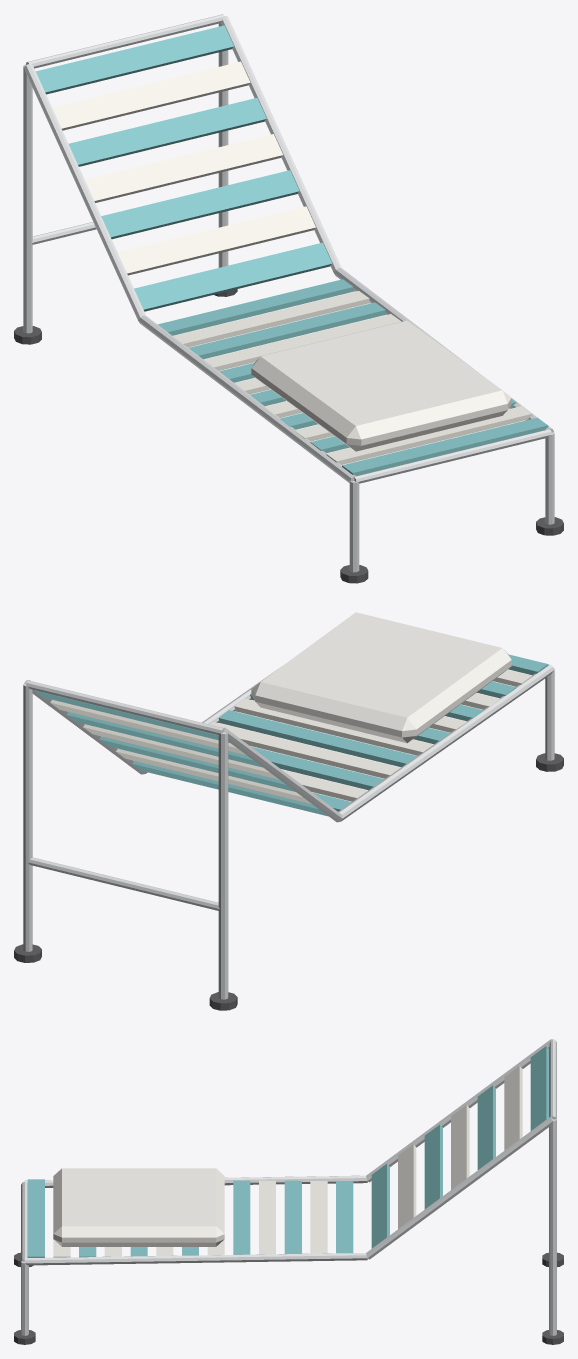
Rendered from lounger.glb.
The picture shows the model from 3 angles, top to bottom: view 1: azimuth 30°, elevation 25°; view 2: azimuth 150°, elevation 25°; view 3: azimuth 270°, elevation 25°; orthographic projection. The views are drawn at different scales.
Parts seen in each view (by area): view 1: lounger_accent2, lounger_vinyl_w, lounger_bed_w, lounger_alu, lounger_rubber; view 2: lounger_bed_w, lounger_alu, lounger_accent2, lounger_vinyl_w, lounger_rubber; view 3: lounger_bed_w, lounger_accent2, lounger_alu, lounger_vinyl_w, lounger_rubber.
Part boxes in pixels (x1,y1,x2,y2): lounger_accent2: (36, 25, 548, 475); lounger_vinyl_w: (52, 61, 532, 464); lounger_bed_w: (251, 320, 511, 451); lounger_alu: (23, 14, 554, 572); lounger_rubber: (14, 289, 563, 583); lounger_bed_w: (251, 612, 511, 743); lounger_alu: (23, 664, 554, 999); lounger_accent2: (34, 654, 548, 816); lounger_vinyl_w: (50, 669, 532, 803); lounger_rubber: (14, 753, 563, 1010); lounger_bed_w: (53, 1168, 224, 1246); lounger_accent2: (27, 1046, 548, 1257); lounger_alu: (21, 1039, 556, 1335); lounger_vinyl_w: (53, 1065, 522, 1257); lounger_rubber: (14, 1252, 563, 1344).
Bounding box in the file's own units: 0.72 × 0.865 × 1.93.
